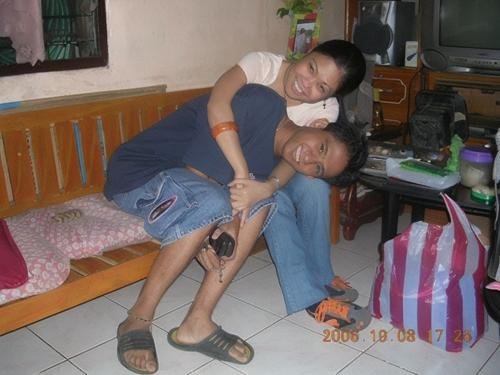bottle: (373, 88, 386, 130)
cat: (356, 81, 373, 127)
person: (104, 84, 369, 374), (207, 39, 374, 330)
person/foot: (175, 318, 246, 361), (307, 296, 372, 332), (118, 320, 157, 371), (324, 277, 359, 304)
person/hand: (228, 180, 272, 211), (211, 214, 239, 262), (230, 172, 252, 229), (194, 243, 226, 274)
person/head: (281, 117, 368, 189), (283, 37, 367, 101)
tvmonitor: (419, 1, 500, 77)
